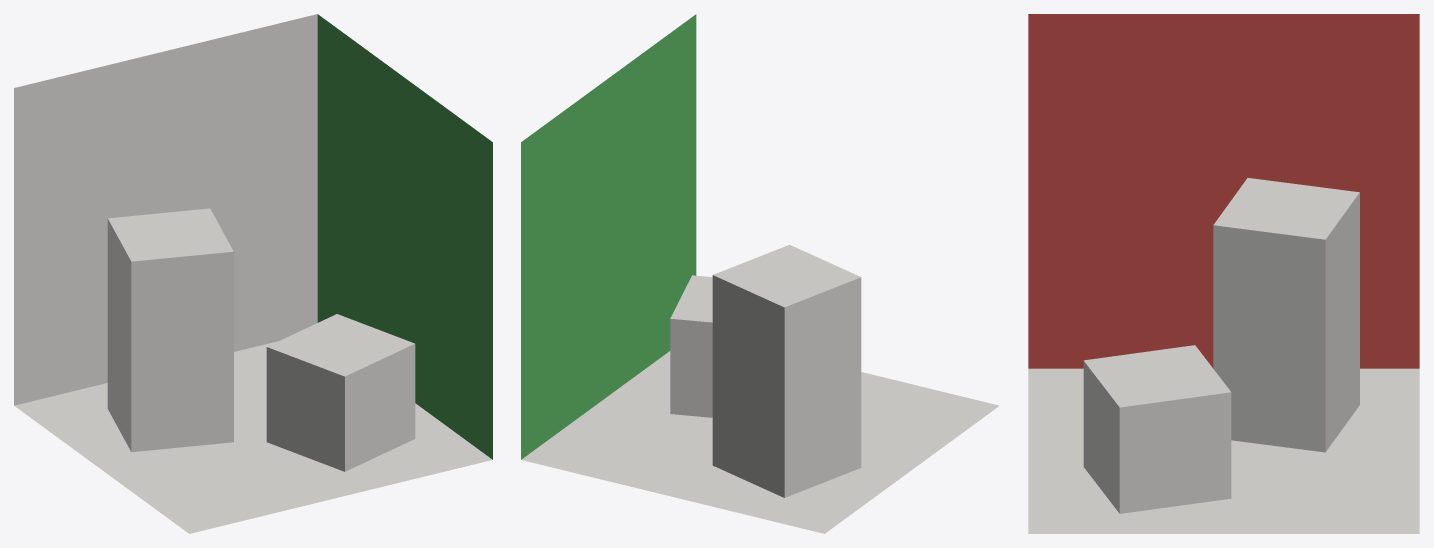
File: cornell_box.gltf
The picture shows the model from 3 angles, left to right: view 1: azimuth 30°, elevation 25°; view 2: azimuth 150°, elevation 25°; view 3: azimuth 270°, elevation 25°; orthographic projection. The views are drawn at different scales.
Visible parts, largest first — view 1: cornell_shell, cornell_right_green, cornell_tall_box, cornell_short_box; view 2: cornell_right_green, cornell_tall_box, cornell_shell, cornell_short_box; view 3: cornell_left_red, cornell_tall_box, cornell_shell, cornell_short_box.
Boxes of the visible parts, box(x1,y1,x2,y2) form: cornell_shell: box(14, 14, 492, 533); cornell_right_green: box(317, 14, 492, 459); cornell_tall_box: box(107, 208, 233, 452); cornell_short_box: box(266, 314, 415, 471); cornell_right_green: box(521, 14, 696, 459); cornell_tall_box: box(712, 244, 861, 497); cornell_shell: box(521, 351, 999, 533); cornell_short_box: box(670, 275, 712, 417); cornell_left_red: box(1028, 14, 1419, 368); cornell_tall_box: box(1213, 178, 1359, 452); cornell_shell: box(1028, 368, 1419, 533); cornell_short_box: box(1083, 345, 1231, 513).
Bounding box in the file's own units: 2 × 2 × 2.
